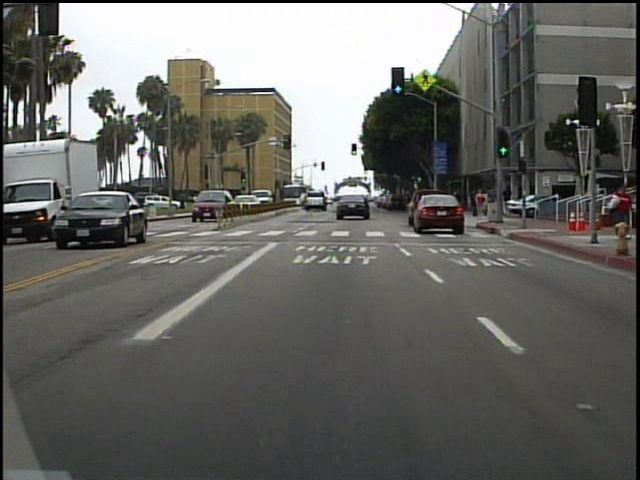person: (471, 187, 487, 223), (486, 183, 500, 220), (501, 183, 515, 217)
